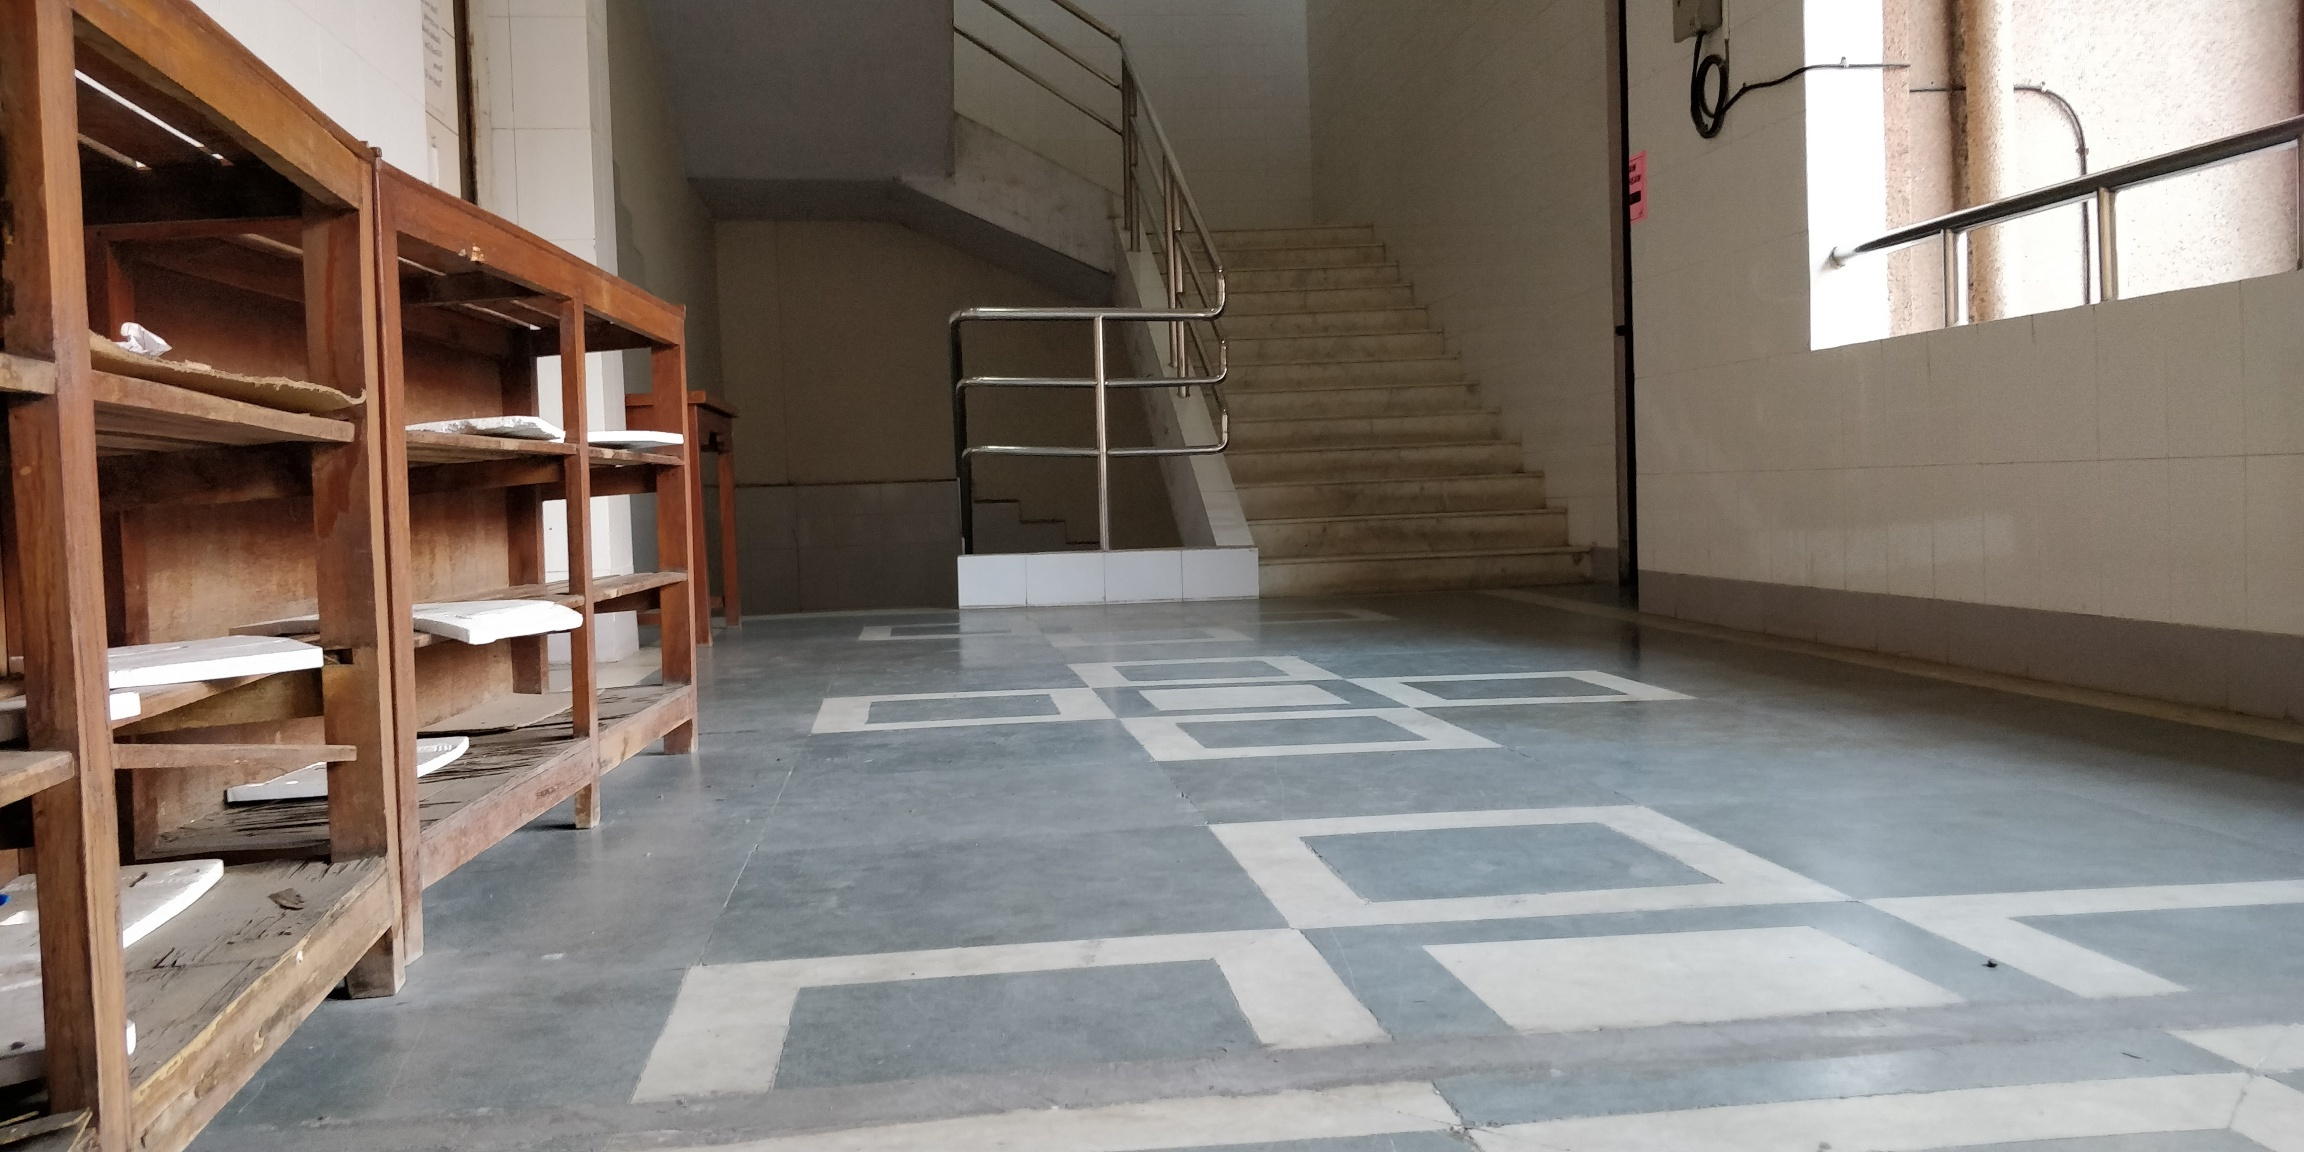stairs_up: (1151, 229, 1597, 600)
